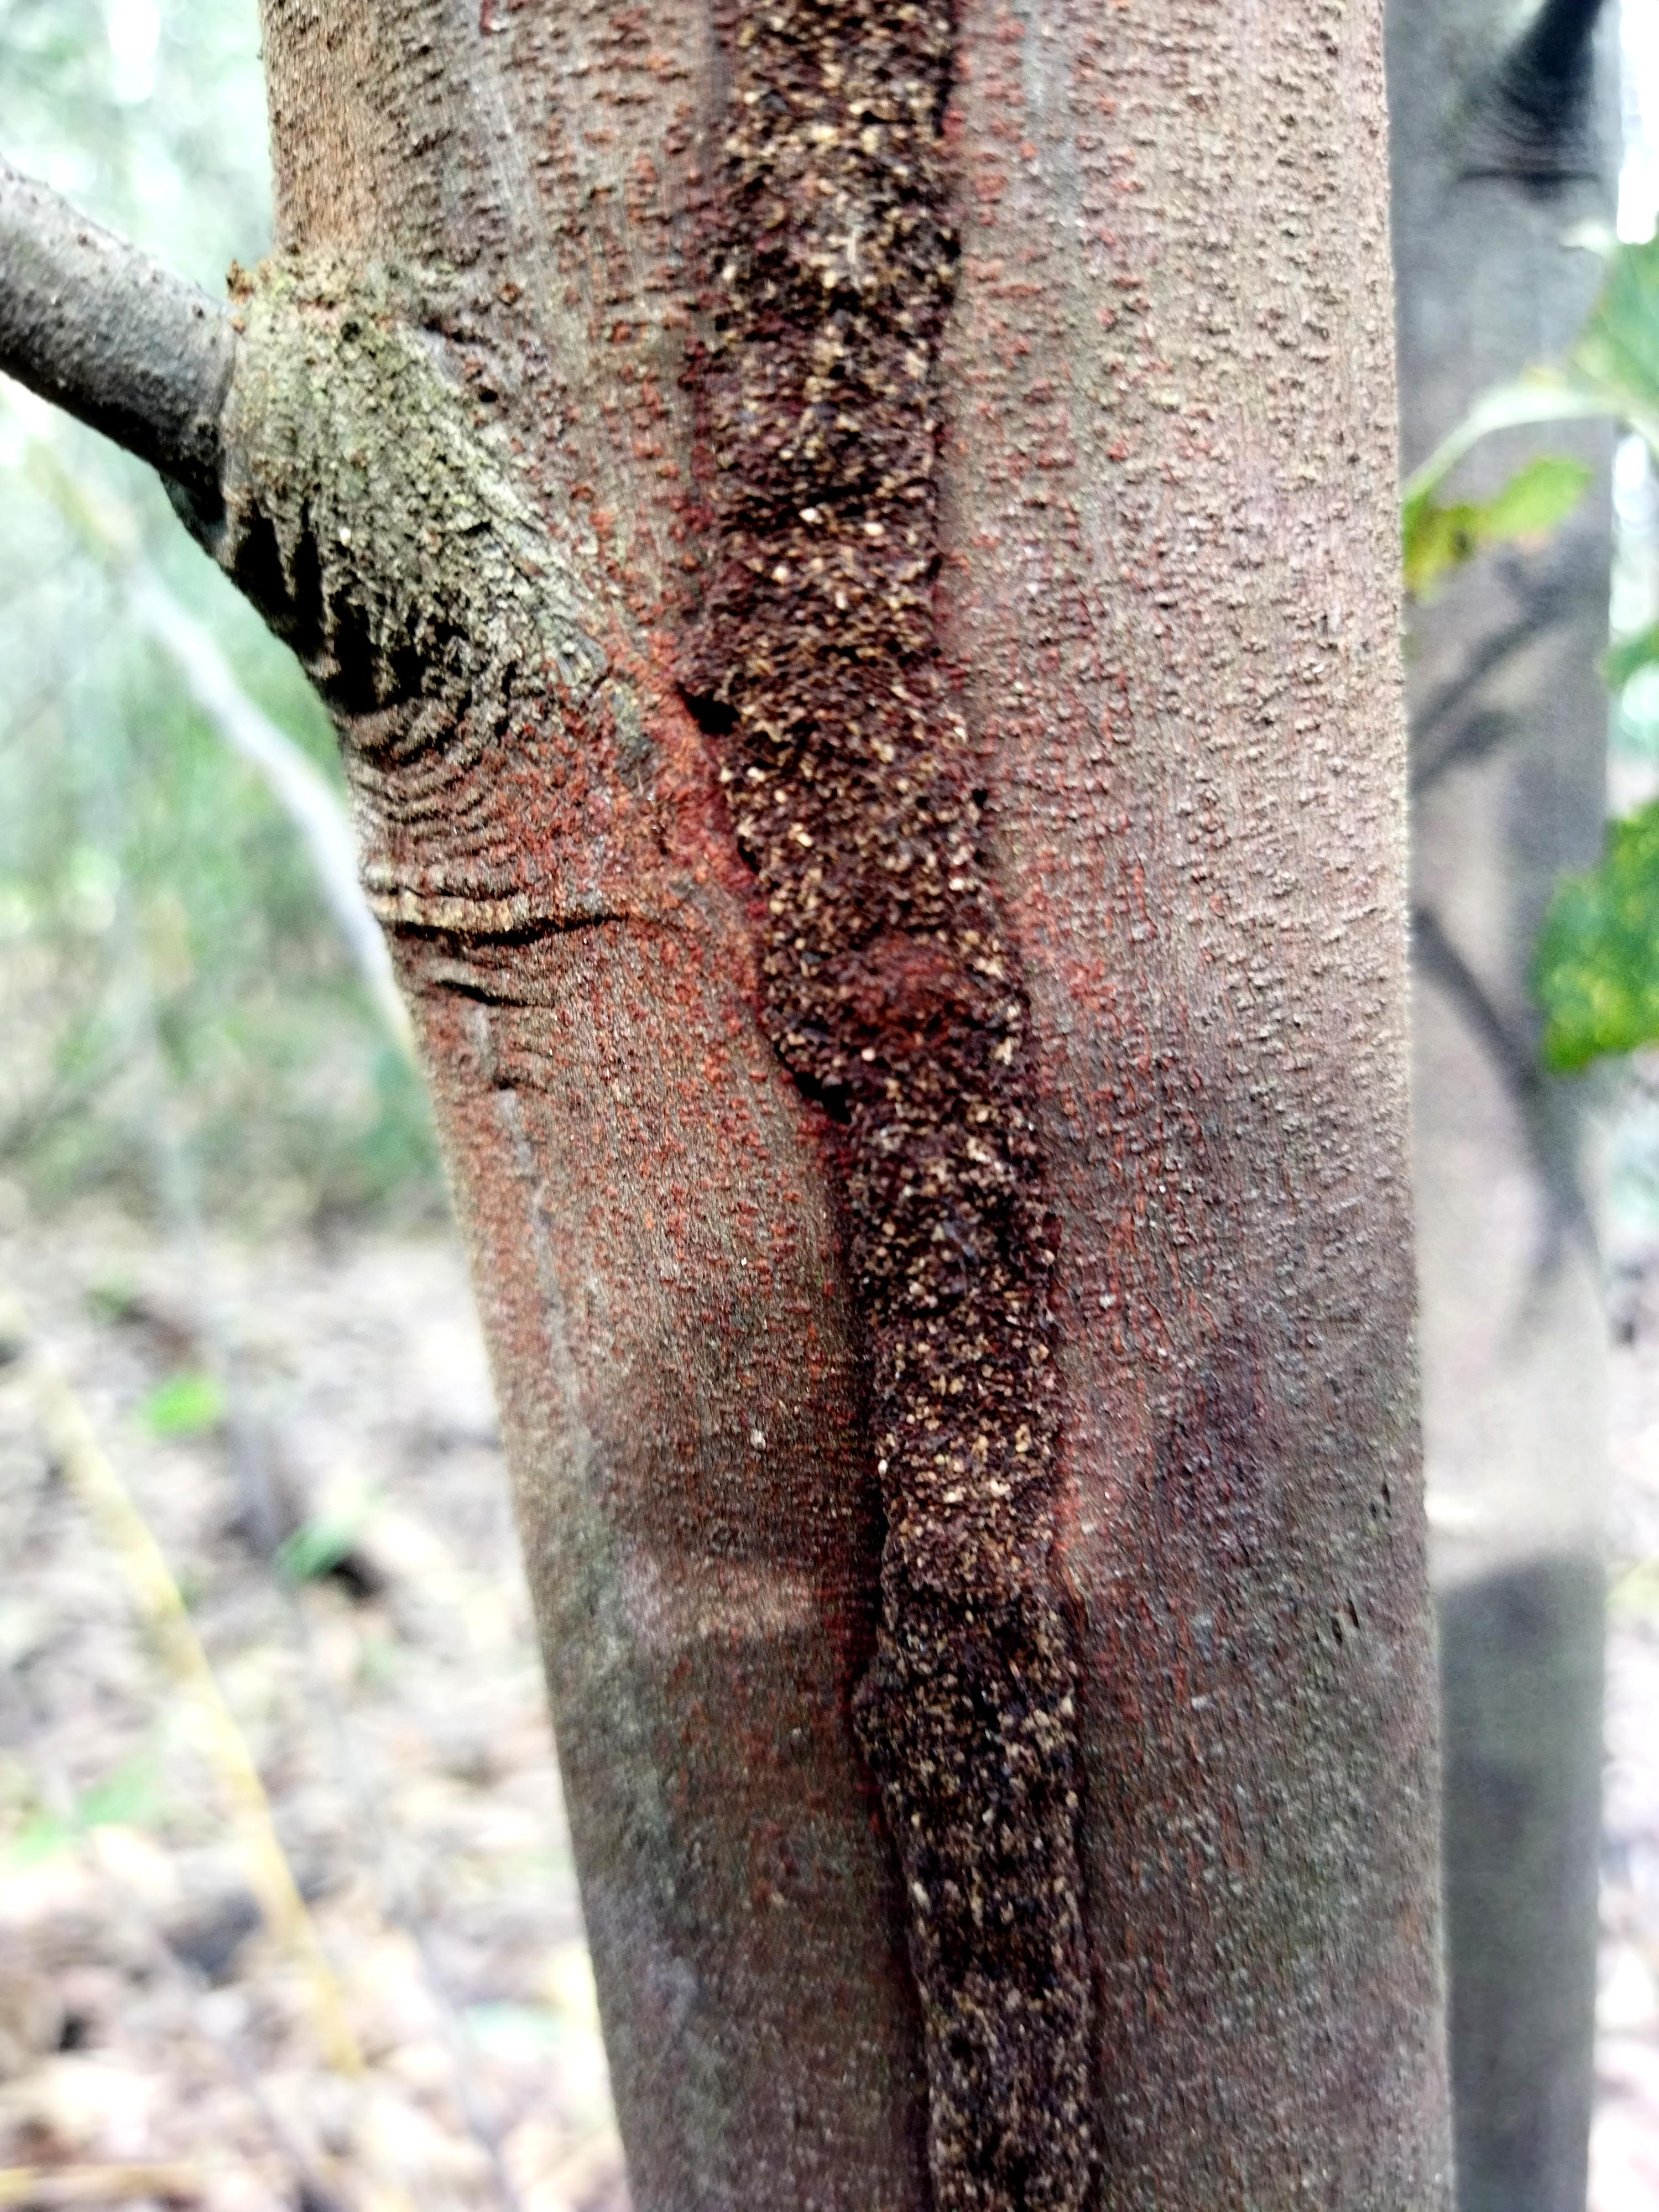Termite - Nest: (676, 0, 1169, 2212)
